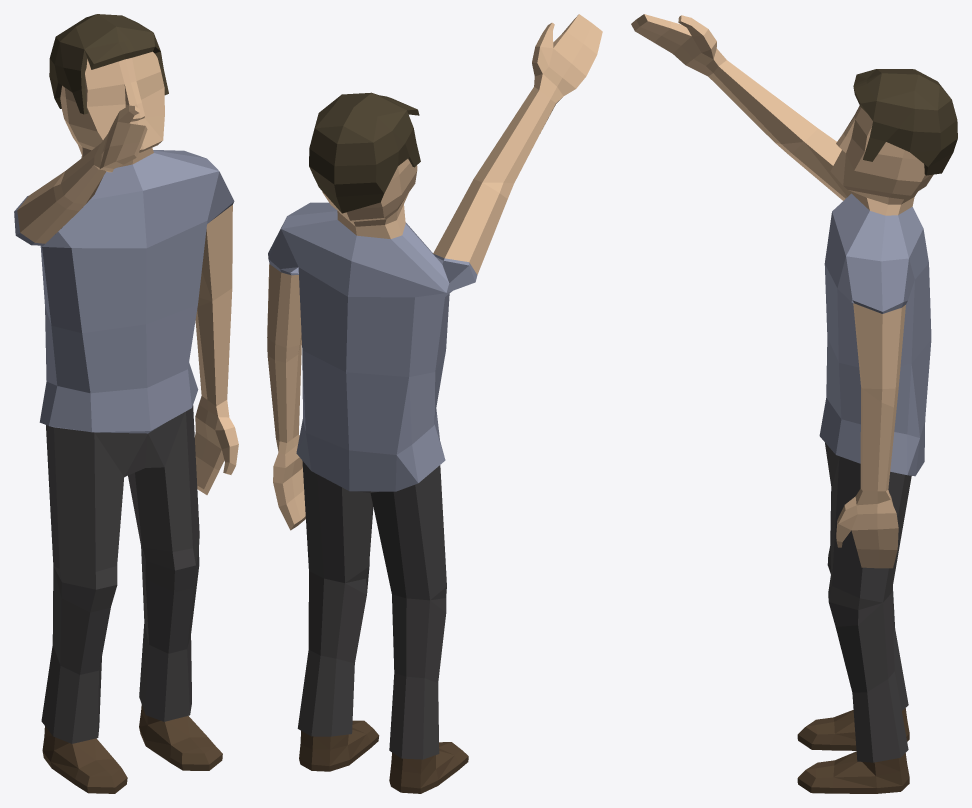
The model's file is Male_Crowd_Pointing.glb.
The picture shows the model from 3 angles, left to right: view 1: azimuth 30°, elevation 25°; view 2: azimuth 150°, elevation 25°; view 3: azimuth 270°, elevation 25°; orthographic projection. The views are drawn at different scales.
Visible parts, largest first — view 1: Male_Crowd_Pointing; view 2: Male_Crowd_Pointing; view 3: Male_Crowd_Pointing.
Part boxes in pixels (x1,y1,x2,y2): Male_Crowd_Pointing: (14,14,238,793); Male_Crowd_Pointing: (267,14,602,793); Male_Crowd_Pointing: (631,14,957,793).
Bounding box in the file's own units: 0.5978 × 1.84 × 0.7705.
